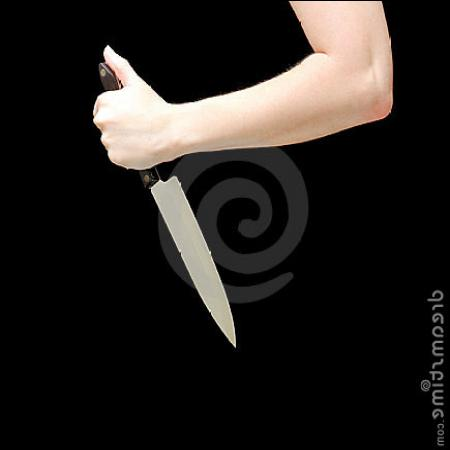long weapon: (92, 125, 239, 357)
